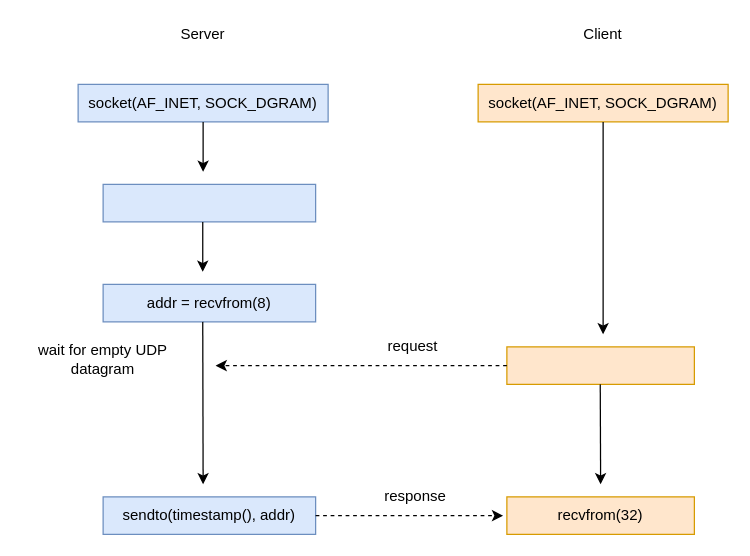
This 750x556 diagram has some shape labels left out. The shapes that lost their labels are listed below. From the top down, each one's box as (x1, y1, x2, y2) in pixels, then its label:
(102, 183, 316, 222): bind((HOST, PORT))
(506, 346, 694, 384): sendto("", (HOST, PORT))
